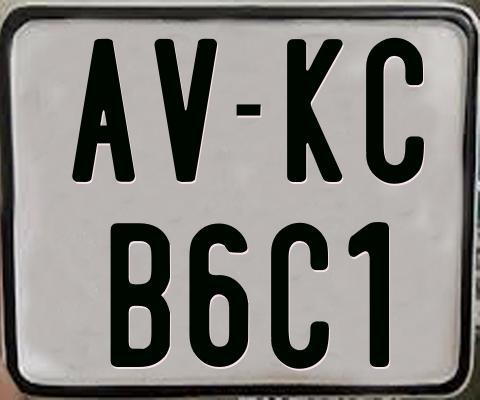1: (346, 222, 387, 372)
6: (189, 220, 253, 367)
A: (69, 38, 134, 183)
B: (108, 221, 174, 365)
C: (363, 35, 425, 184), (270, 221, 331, 371)
K: (285, 39, 346, 185)
V: (153, 39, 221, 182)
